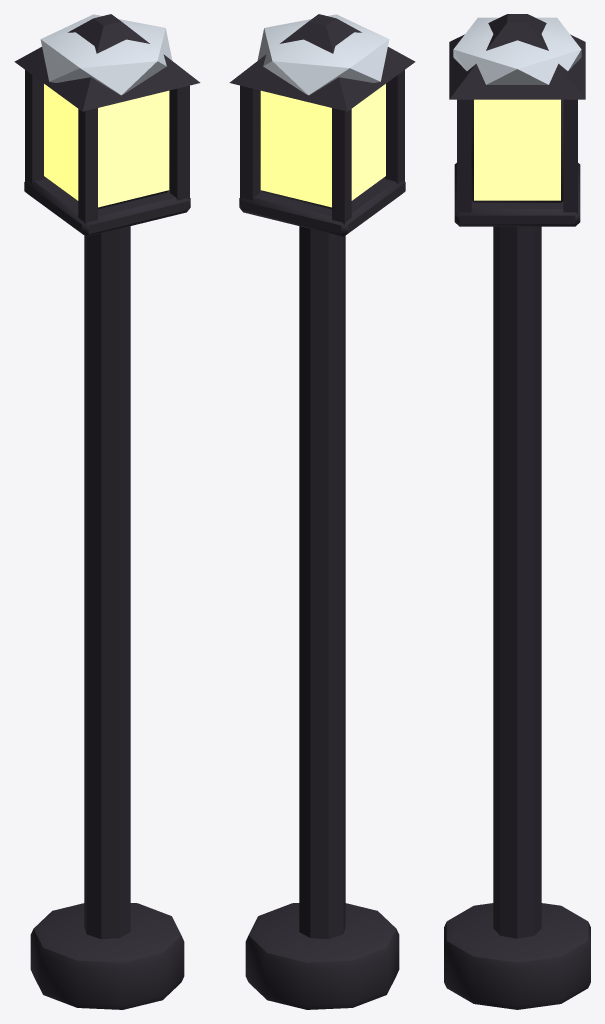
Rendered from snow_lantern.glb.
3 views of the same model, side by side, from view 1: azimuth 30°, elevation 25°; view 2: azimuth 150°, elevation 25°; view 3: azimuth 270°, elevation 25° (orthographic).
Parts seen in each view (by area): view 1: snow_lantern; view 2: snow_lantern; view 3: snow_lantern.
Boxes of the visible parts, box(x1,y1,x2,y2) form: snow_lantern: box(14, 14, 200, 1009); snow_lantern: box(229, 14, 415, 1009); snow_lantern: box(444, 14, 590, 1009).
Bounding box in the file's own units: 0.32 × 2.2 × 0.3043.
